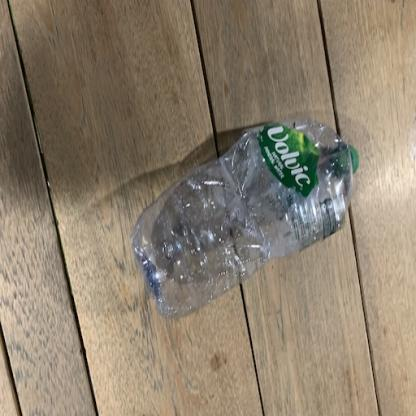trash: (132, 117, 360, 322)
